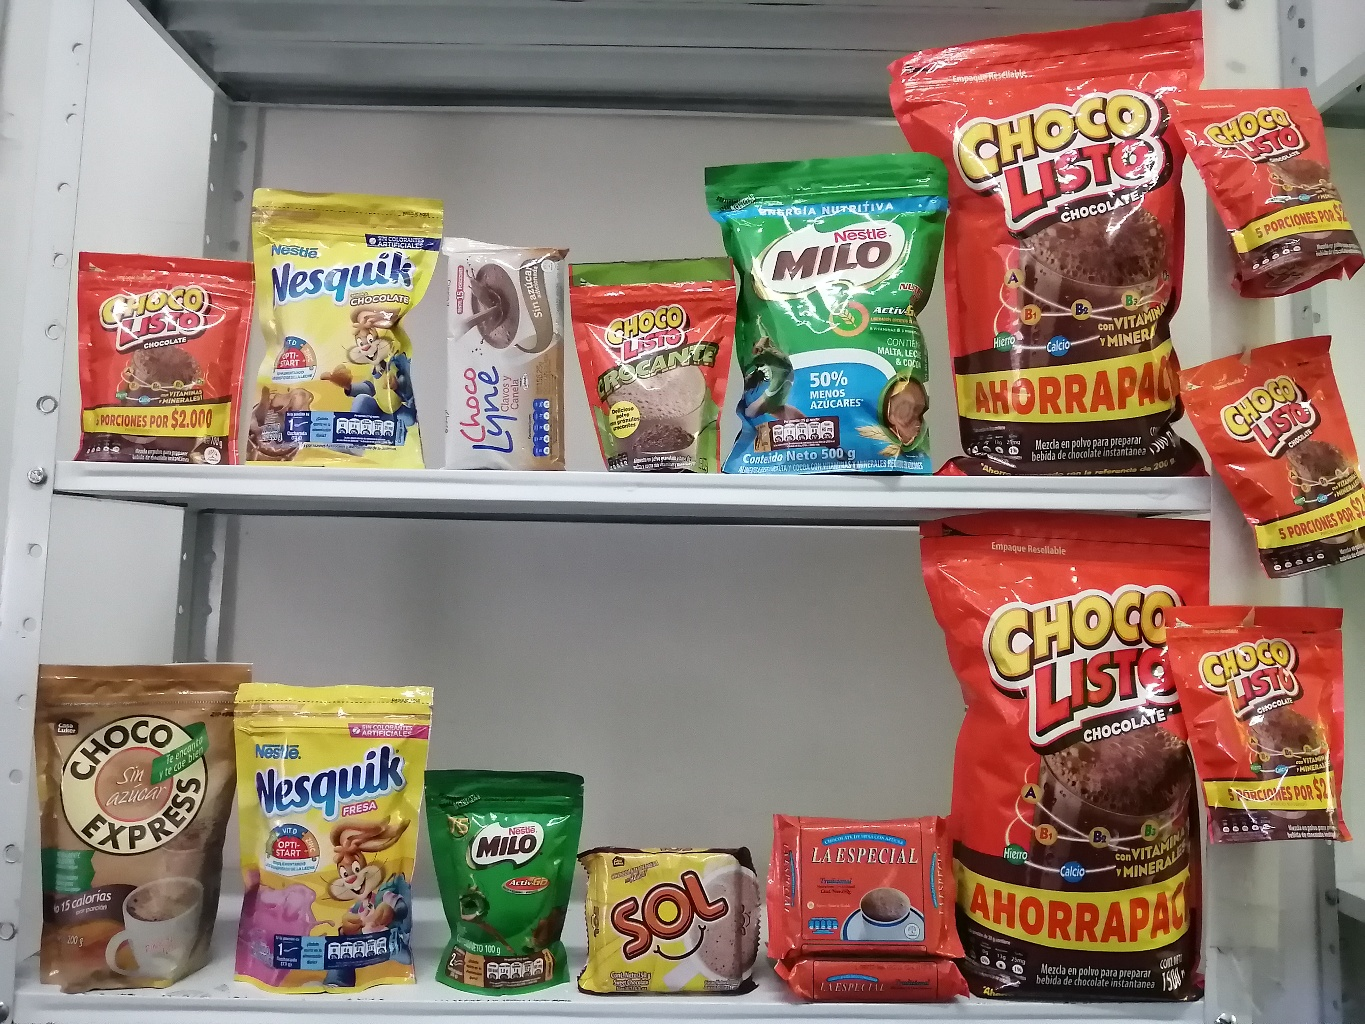COL0170102DYP10000: (553, 241, 753, 486)
COL0170103DYP1,500: (897, 501, 1228, 1007)
COL0170103DYP10000: (1147, 51, 1359, 311)
COL0170203DYP10000: (422, 756, 585, 1004)
COL0170205DYP50000: (687, 132, 953, 480)
COL0170303DYP20000: (226, 172, 451, 477)
COL0170305DYP20000: (222, 664, 433, 1001)
